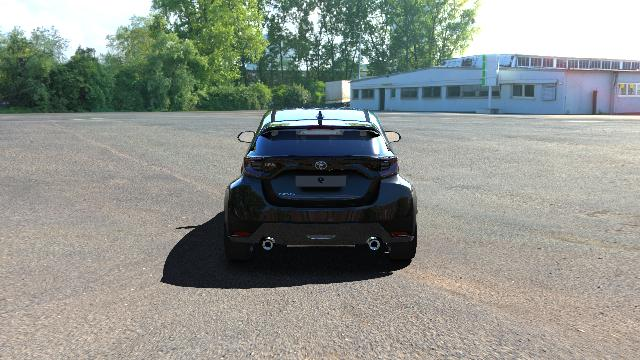License Plate: (296, 174, 346, 188)
